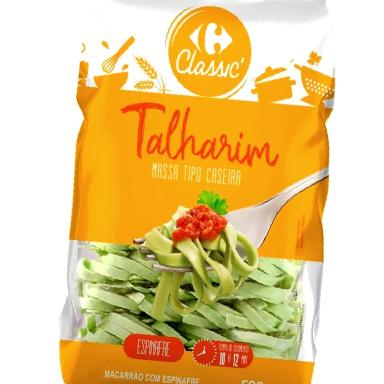pasta package: (60, 0, 334, 383)
